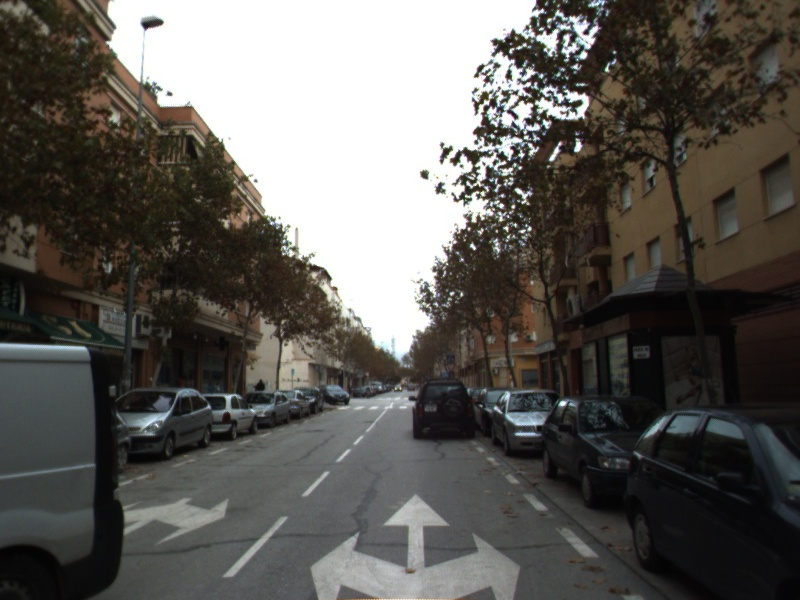STRAIGHT_LEFT_RIGHT: (307, 490, 525, 600)
